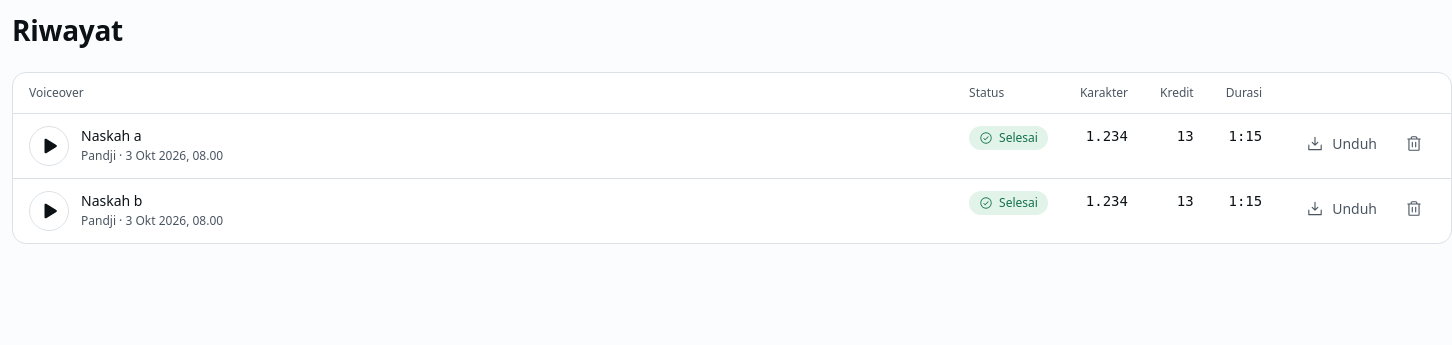
Test: HistoryPage player › keeps one player open: playing another row closes the previous one
Click the button named "Putar Naskah a": (49, 146) [29, 126, 69, 166]
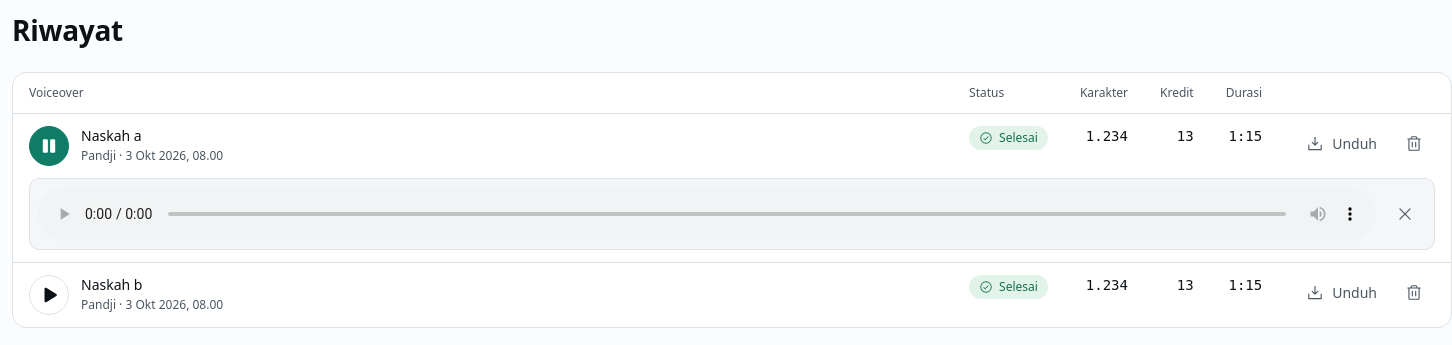
Now the element with test id "history-player" is shown, box [29, 178, 1435, 250]
Click the button named "Putar Naskah b": (49, 295) [29, 275, 69, 315]
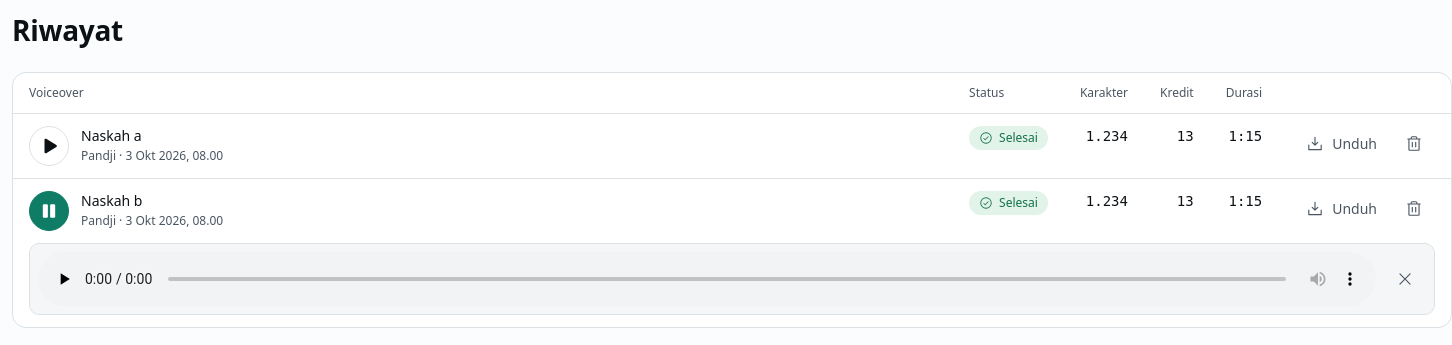
Now the number of elements with test id "history-player" is 1, box [29, 243, 1435, 315]
